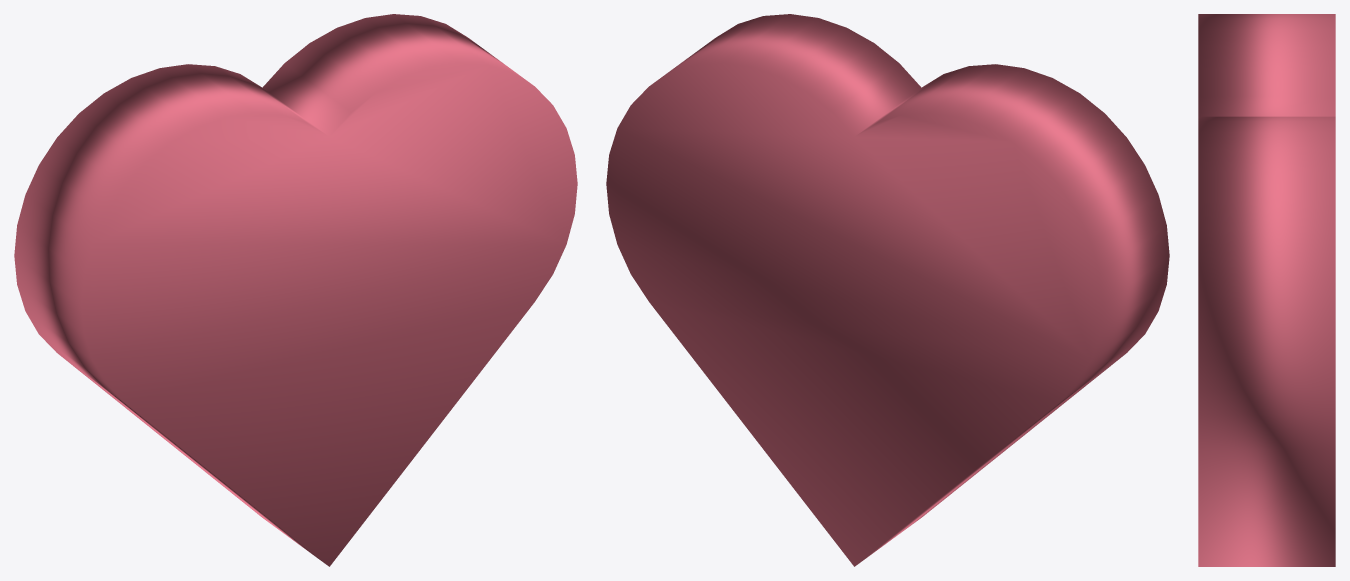
The model's file is ハート.glb.
3 renders of one model, left to right at view 1: azimuth 30°, elevation 25°; view 2: azimuth 150°, elevation 25°; view 3: azimuth 270°, elevation 25°, orthographic. The views are drawn at different scales.
Visible parts, largest first — view 1: Cube; view 2: Cube; view 3: Cube.
Boxes of the visible parts, box(x1,y1,x2,y2) form: Cube: box(14, 14, 577, 566); Cube: box(606, 14, 1169, 566); Cube: box(1198, 14, 1335, 566).
Bounding box in the file's own units: 1.71 × 1.56 × 0.4.
